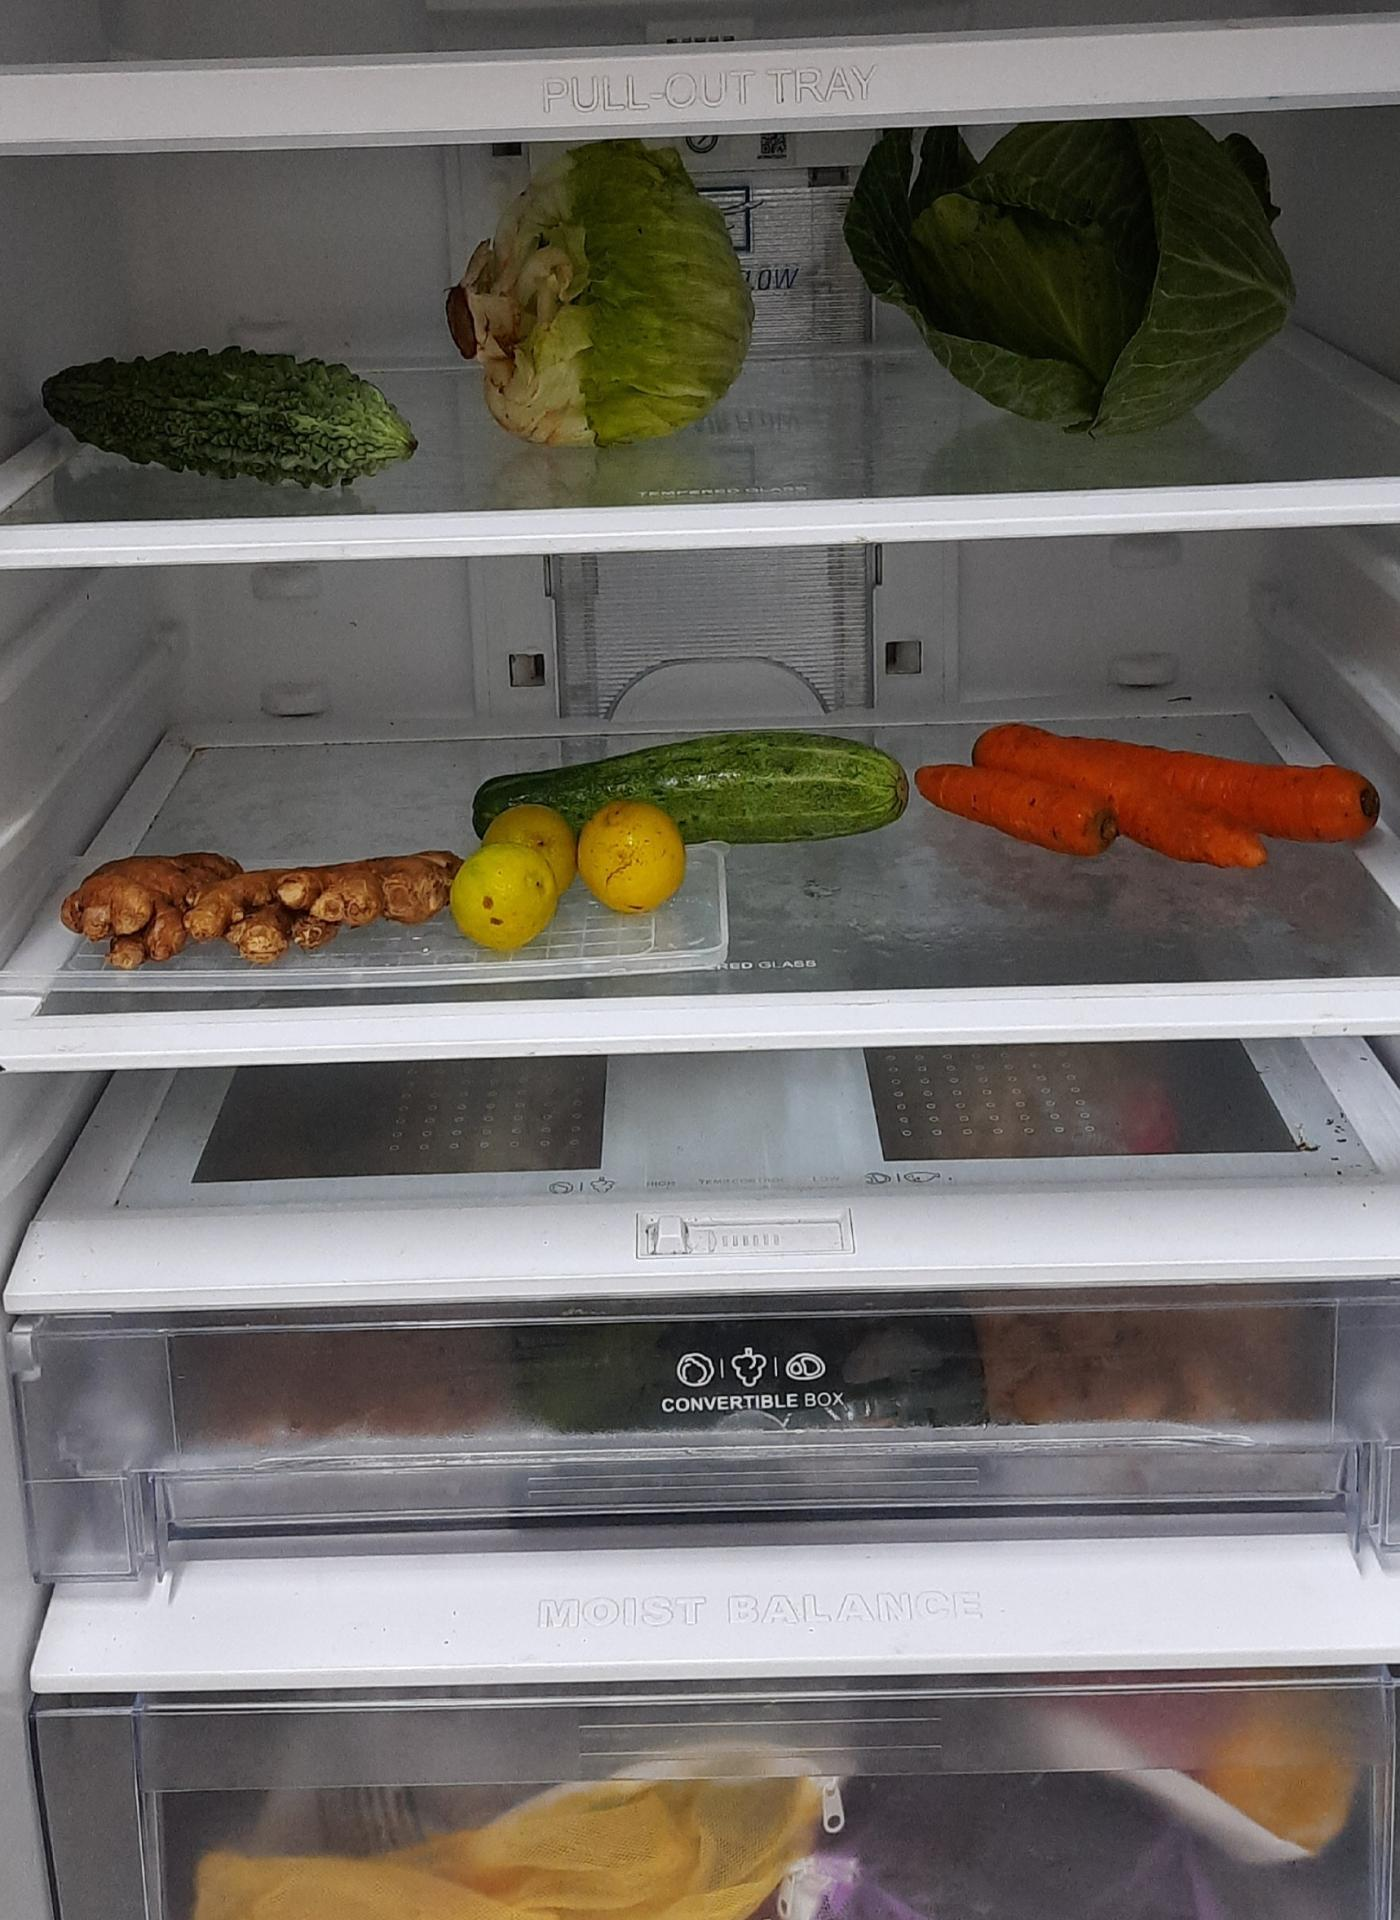bitter gourd: (39, 349, 417, 489)
cabbage: (844, 119, 1297, 434)
carrots: (914, 724, 1387, 880)
cucumber: (470, 729, 912, 856)
ginger: (63, 841, 458, 966)
lemon: (453, 800, 695, 948)
lettuce: (446, 148, 756, 450)
